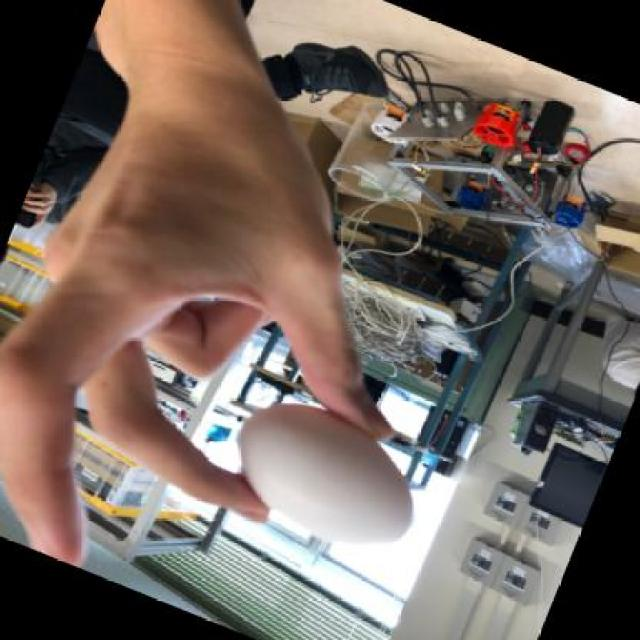egg: (233, 396, 413, 544)
